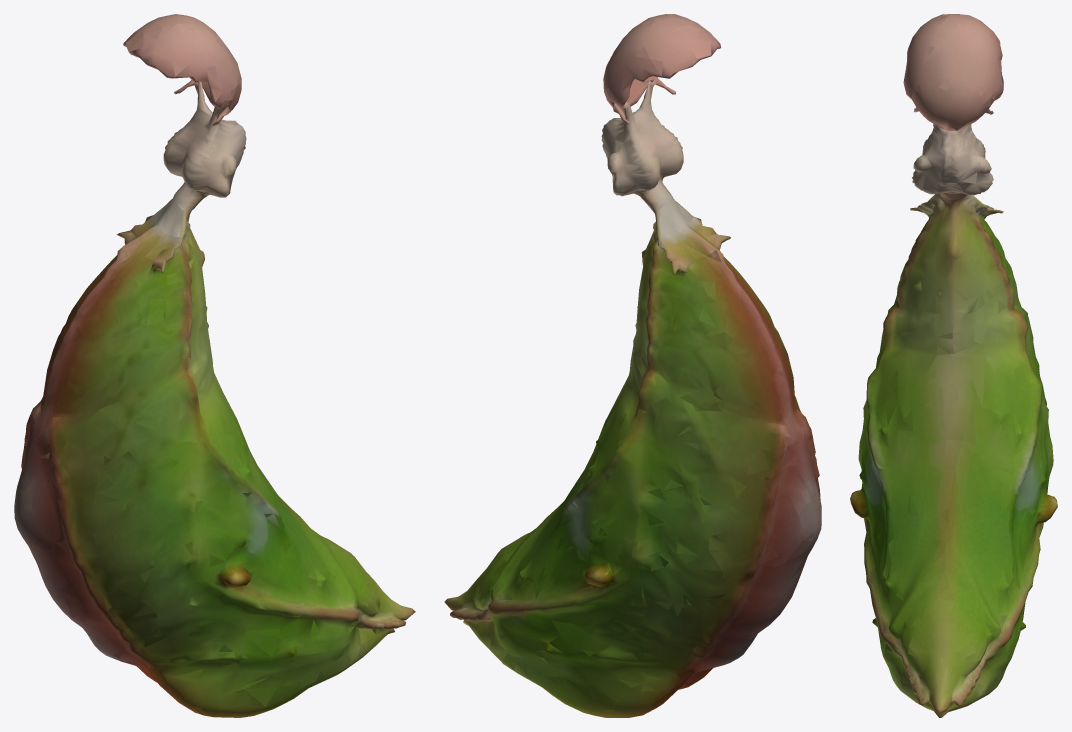
File: crisaldia_epapus.fbx
The picture shows the model from 3 angles, left to right: view 1: azimuth 30°, elevation 25°; view 2: azimuth 150°, elevation 25°; view 3: azimuth 270°, elevation 25°; orthographic projection. The views are drawn at different scales.
Visible parts, largest first — view 1: tripo_node_0c74c289; view 2: tripo_node_0c74c289; view 3: tripo_node_0c74c289.
Part boxes in pixels (<box>): tripo_node_0c74c289: <box>14,14,415,717</box>; tripo_node_0c74c289: <box>444,14,821,717</box>; tripo_node_0c74c289: <box>850,14,1057,717</box>.
Bounding box in the file's own units: 1.3 × 2.23 × 0.6573.
Materials: 1 (1 with a texture image).
